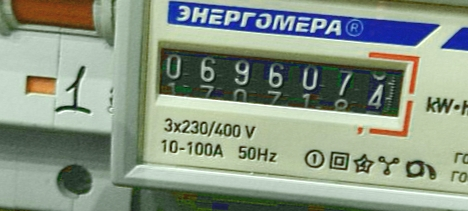0: (162, 47, 184, 77), (298, 59, 319, 88)
4: (364, 78, 385, 107)
6: (196, 51, 217, 80), (265, 56, 285, 85)
7: (332, 63, 354, 94)
9: (230, 54, 250, 84)
screen: (138, 22, 424, 136)
